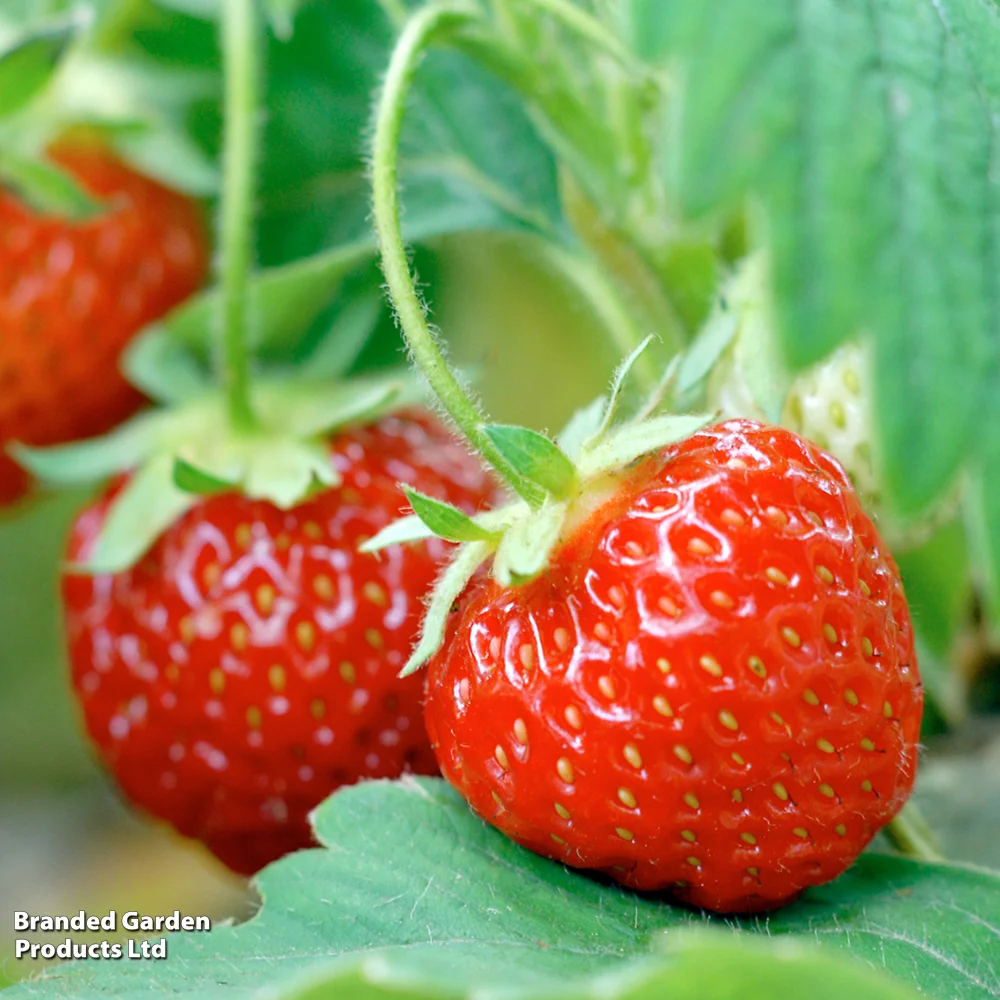peduncle: (372, 3, 543, 507), (218, 0, 259, 431)
strawberry: (426, 420, 921, 910), (63, 411, 494, 872), (0, 141, 207, 503)
